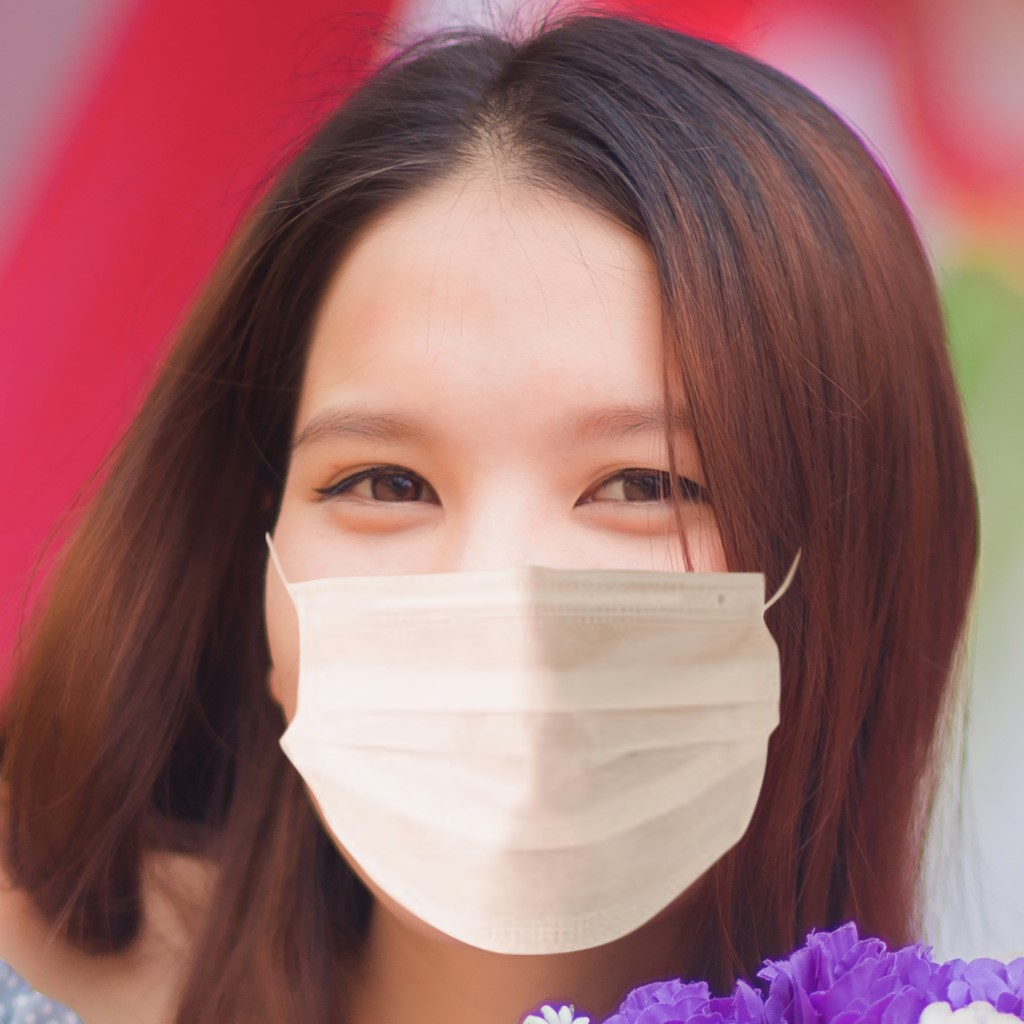con_mascara: (257, 187, 811, 988)
